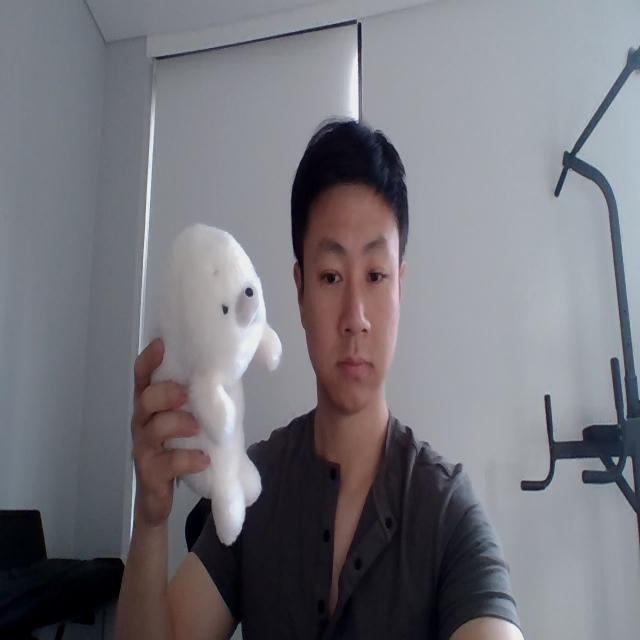seal_bb: (149, 220, 283, 545)
